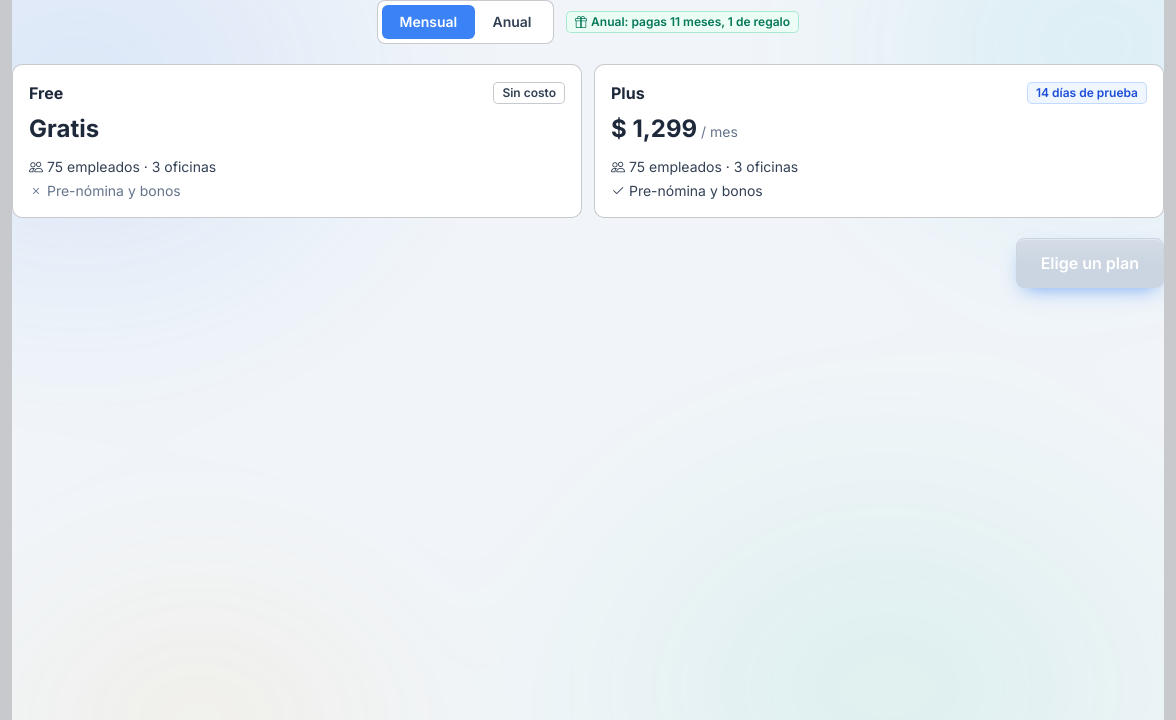
Scenario: PlanCheckoutComponent › shows the yearly price as 11 months
Click the radio button labelled "Anual": (512, 22) [475, 5, 549, 39]
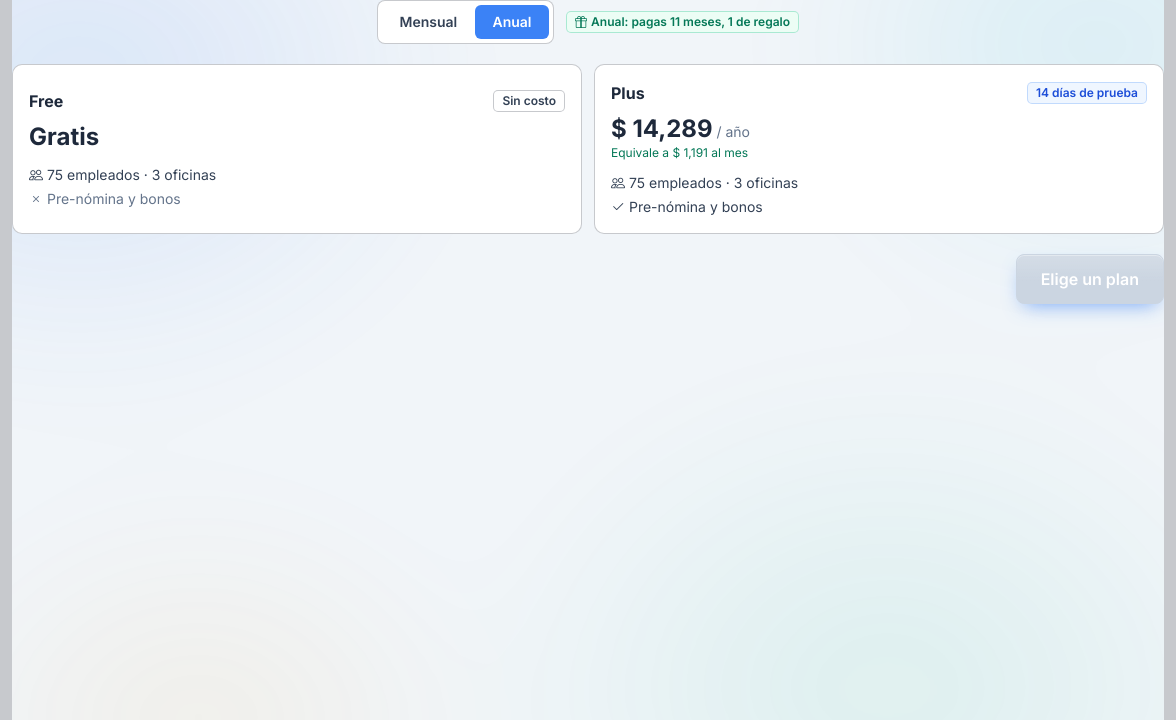
Expected: the text "14,289" is shown, [611, 114, 712, 143]
Expected: the text "/ año" is shown, [712, 123, 750, 140]
